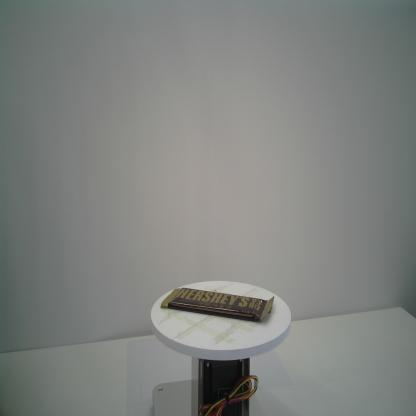Chocolate: (160, 286, 275, 322)
